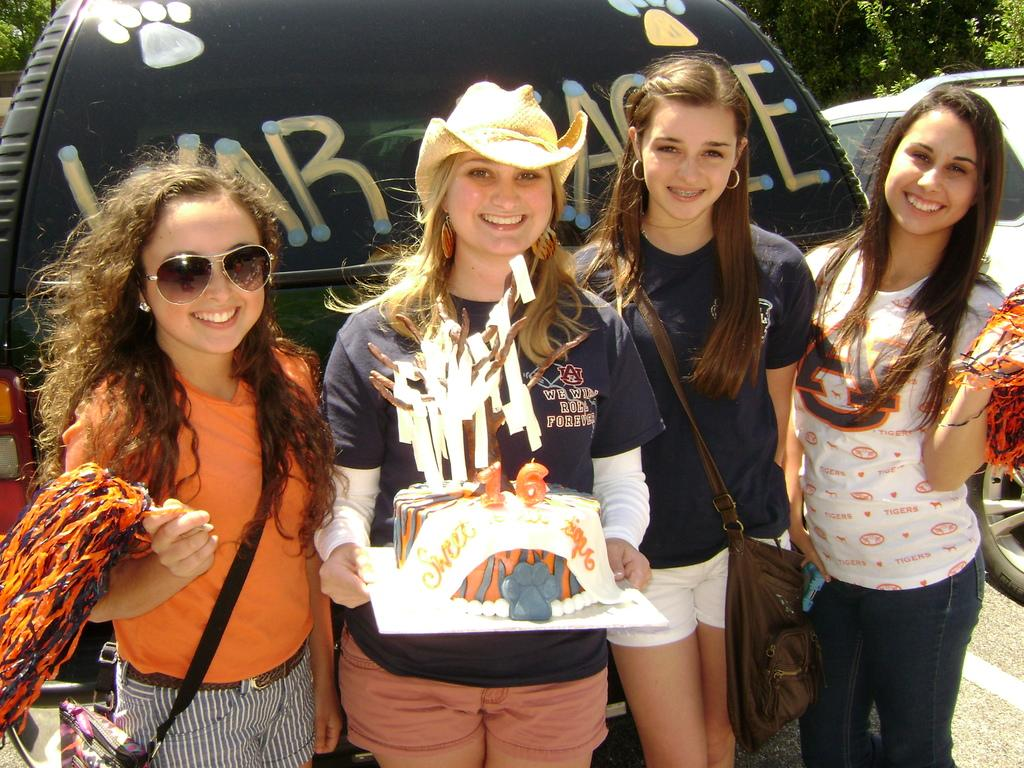Hat: (414, 78, 586, 213)
